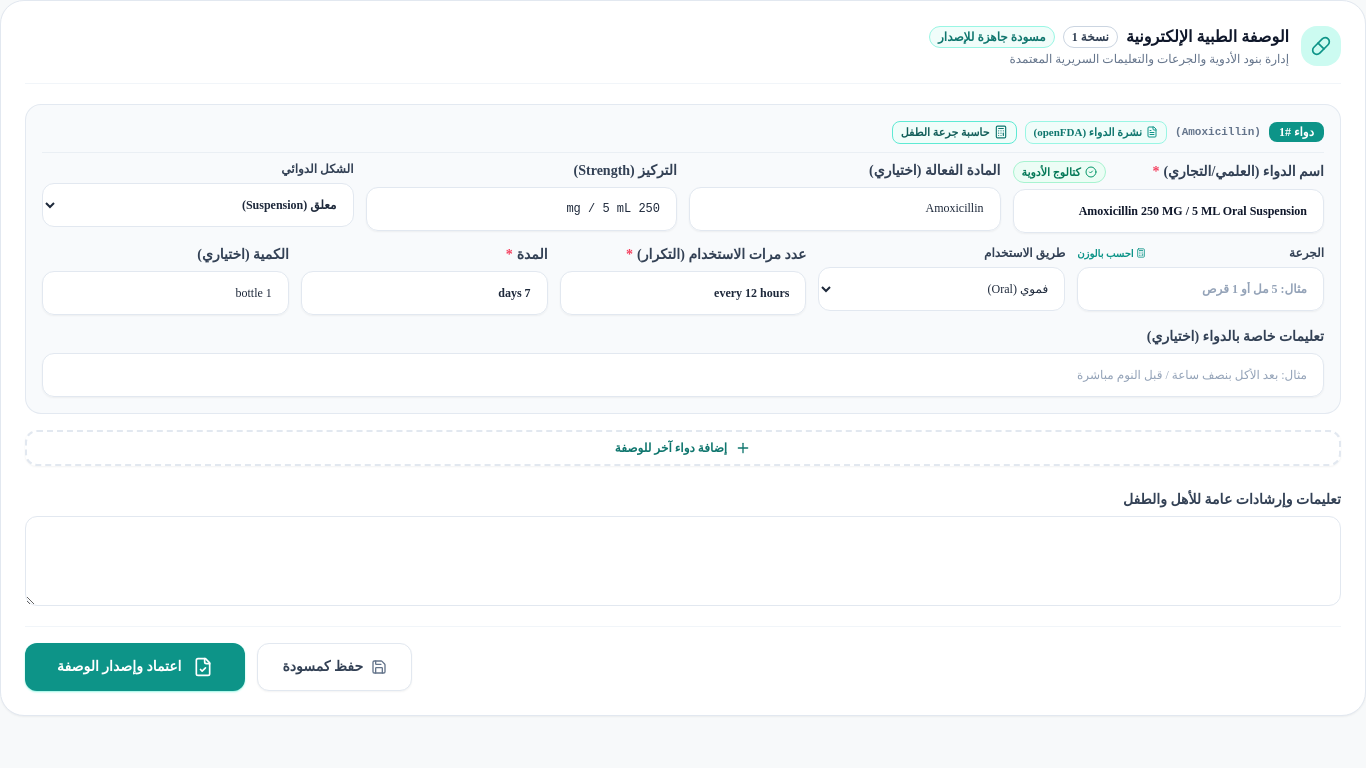
Test: Safe Pediatric Dosage Calculator - Phase 1 (حاسبة جرعات الأطفال الآمنة) › 8. Clinical Review Workflow & Rule Approval Dispatching (مسار مراجعة واعتماد القواعد السريرية) › 3. Clicking calculate on item with approved rule opens PediatricDosageCalculatorModal directly
Step 1. Click the button with test id "pediatric-calculator-btn-0" → (954, 132), box [892,121,1017,144]
(page scrolled)
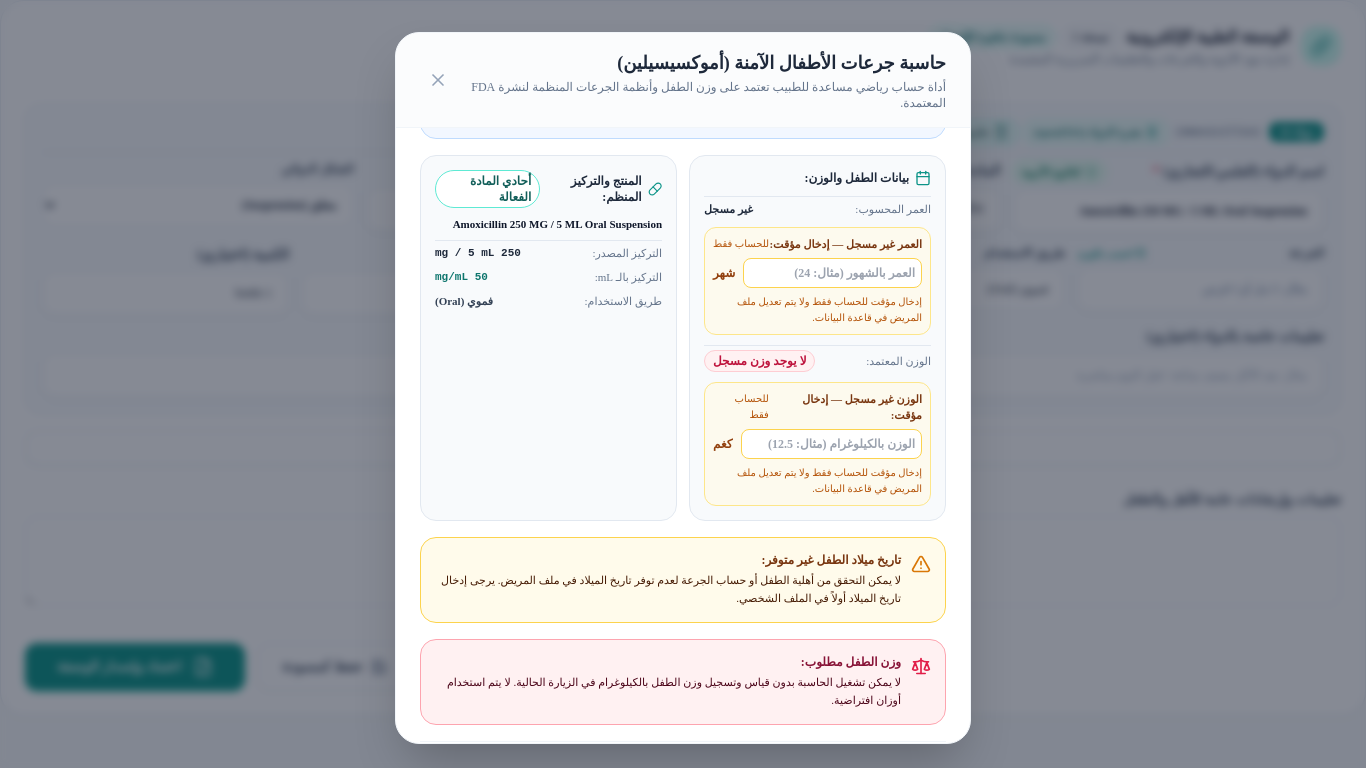
Now the element with test id "pediatric-dosage-calculator-modal" is shown, box [420,128,946,743]
